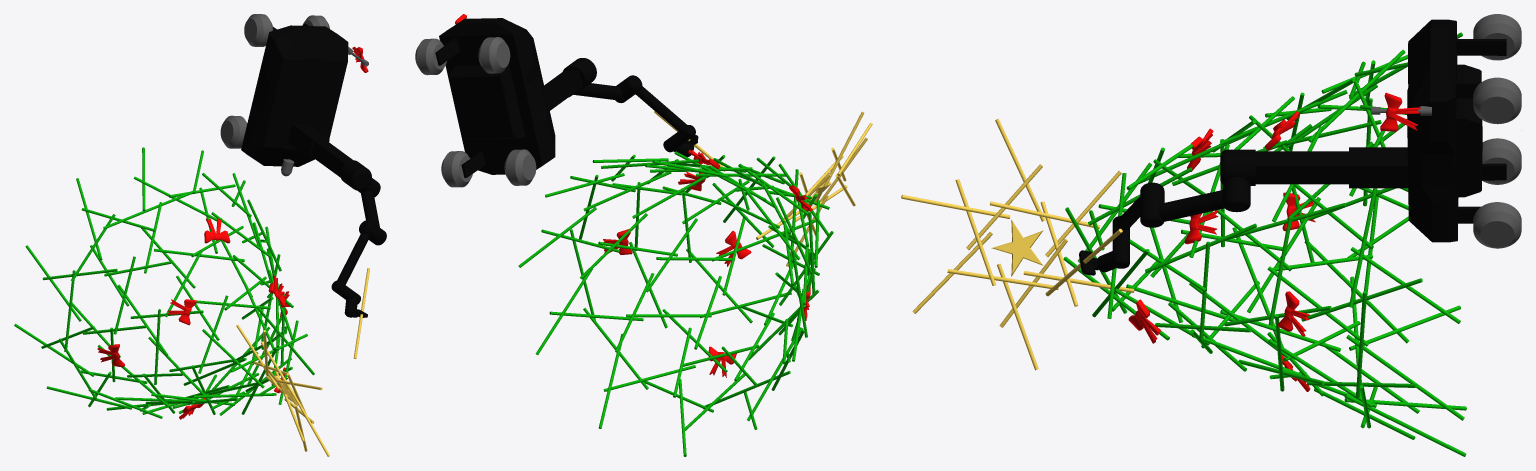
File: tree_stix_v5.gltf
3 views of the same model, side by side, from view 1: azimuth 30°, elevation 25°; view 2: azimuth 150°, elevation 25°; view 3: azimuth 270°, elevation 25° (orthographic). The views are drawn at different scales.
Parts seen in each view (by area): view 1: object 30, object 14, Ribbon.01_ChristmasTree_0 (×2), object 15, object 21, object 13, object 28, object 9, object 10, object 11; view 2: object 30, object 26, object 28, object 21, object 14, object 29, object 22, object 9, object 11, object 13; view 3: object 30, object 14, object 26, object 15, Star_ChristmasTree_0 (×3), object 29, object 22, Ribbon.01_ChristmasTree_0 (×2), object 21, object 28, object 11, object 13 (+3 smaller).
Boxes of the visible parts, x1,y1,x2,y2 form: object 30: [241, 25, 348, 166]; object 14: [311, 141, 352, 177]; Ribbon.01_ChristmasTree_0 (×2): [166, 218, 230, 325]; object 15: [288, 124, 329, 157]; object 21: [244, 14, 273, 46]; object 13: [340, 160, 371, 190]; object 28: [220, 115, 247, 148]; object 9: [337, 233, 369, 285]; object 10: [359, 220, 386, 245]; object 11: [361, 190, 379, 227]; object 30: [439, 18, 555, 174]; object 26: [448, 64, 525, 139]; object 28: [504, 149, 536, 185]; object 21: [478, 37, 510, 73]; object 14: [544, 70, 582, 110]; object 29: [441, 151, 472, 187]; object 22: [415, 38, 446, 75]; object 9: [635, 86, 687, 133]; object 11: [573, 83, 624, 100]; object 13: [563, 58, 596, 91]; object 30: [1407, 19, 1458, 242]; object 14: [1255, 151, 1348, 184]; object 26: [1456, 64, 1482, 197]; object 15: [1349, 147, 1408, 188]; Star_ChristmasTree_0 (×3): [991, 219, 1466, 456]; object 29: [1473, 202, 1521, 248]; object 22: [1473, 77, 1521, 124]; Ribbon.01_ChristmasTree_0 (×2): [1277, 92, 1420, 336]; object 21: [1473, 14, 1521, 60]; object 28: [1482, 138, 1521, 184]; object 11: [1158, 190, 1224, 221]; object 13: [1220, 149, 1255, 185].
Bounding box in the file's own units: 0.0238 × 0.024 × 0.0264.
5 materials, 1 textured.
